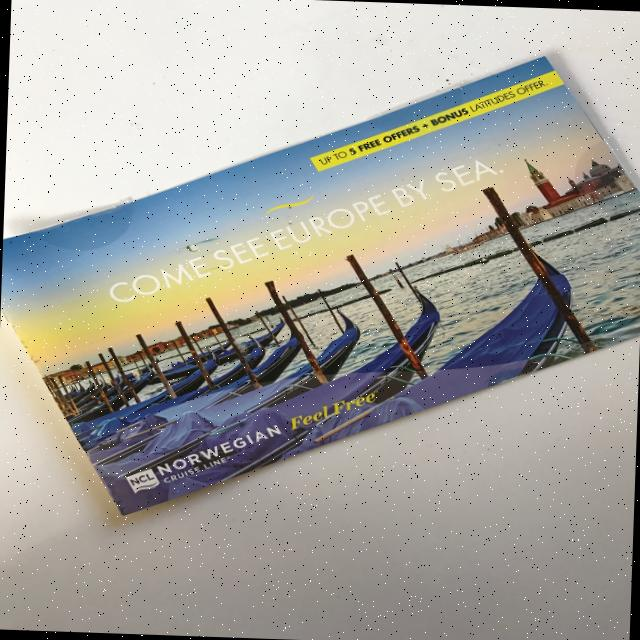paper: (0, 32, 640, 539)
